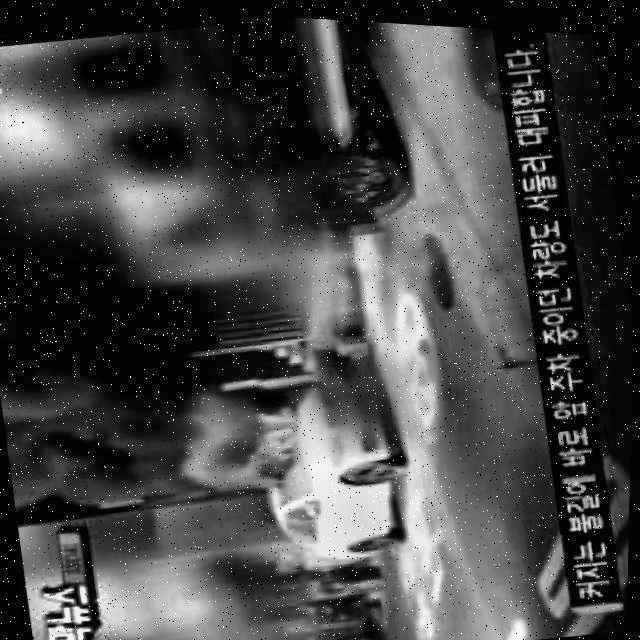Fire: (195, 386, 309, 493)
Smoke: (0, 310, 206, 529)
